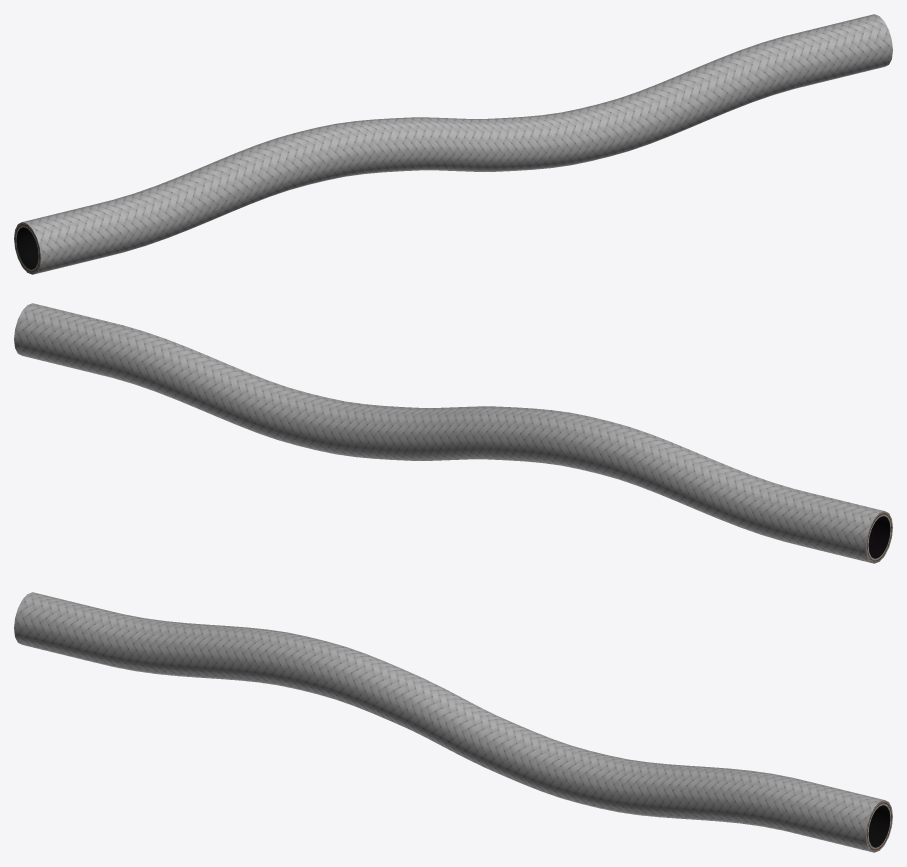
The picture shows the model from 3 angles, top to bottom: view 1: azimuth 30°, elevation 25°; view 2: azimuth 150°, elevation 25°; view 3: azimuth 330°, elevation 25°; orthographic projection.
Visible parts, largest first — view 1: Stainless_Steel_Braid-16.002; view 2: Stainless_Steel_Braid-16.002; view 3: Stainless_Steel_Braid-16.002.
Boxes of the visible parts, bbox=[...] form: Stainless_Steel_Braid-16.002: bbox=[14, 14, 892, 274]; Stainless_Steel_Braid-16.002: bbox=[14, 303, 892, 563]; Stainless_Steel_Braid-16.002: bbox=[14, 592, 892, 852].
Size of the model in its own units: 0.5 by 0.0528 by 0.0274.
Materials: 2 (2 with a texture image).
